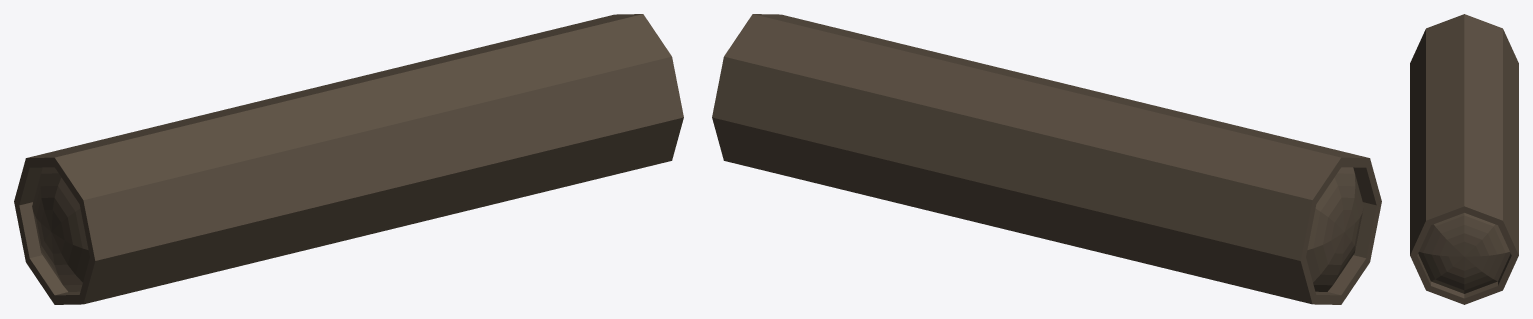
The model's file is Log_V1_Straight.fbx.
3 renders of one model, left to right at view 1: azimuth 30°, elevation 25°; view 2: azimuth 150°, elevation 25°; view 3: azimuth 270°, elevation 25°, orthographic. The views are drawn at different scales.
Visible parts, largest first — view 1: Log_Straight_01; view 2: Log_Straight_01; view 3: Log_Straight_01.
Boxes of the visible parts, <box> form: Log_Straight_01: <box>14,14,683,304</box>; Log_Straight_01: <box>712,14,1381,304</box>; Log_Straight_01: <box>1410,14,1518,304</box>.
Size of the model in its own units: 84.51 by 20 by 20.
